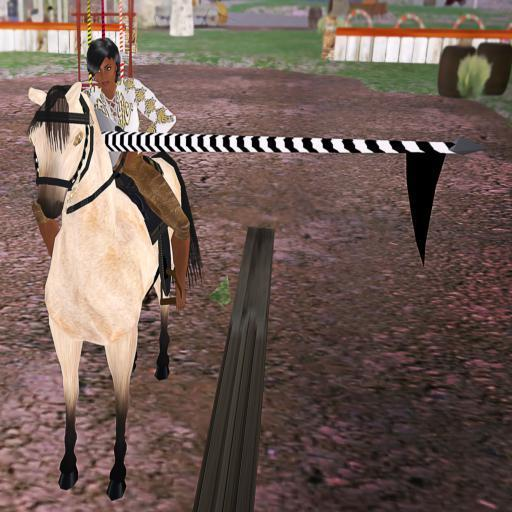horse: (24, 82, 206, 502)
